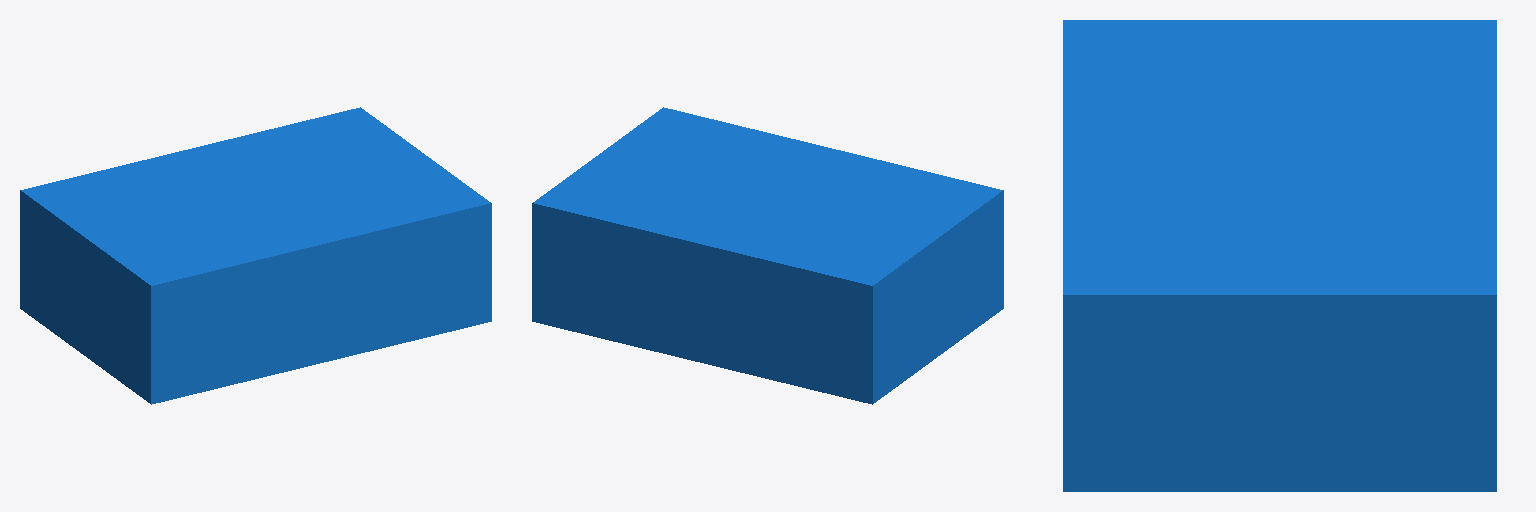
URDF robot description (link_inertial_box):
<?xml version="1.0"?>
<robot name="link_inertial_box">
    <link name="base_link">
        <!-- Visual：外观 -->
        <visual>
            <origin xyz="0 0 0.1"/>
            <geometry>
                <box size="0.6 0.4 0.2"/>
            </geometry>
            <material name="blue">
                <color rgba="0.15 0.55 0.90 0.5"/>
            </material>
        </visual>

        <!-- Collision：碰撞几何 -->
        <collision>
            <origin xyz="0 0 0.1"/>
            <geometry>
                <box size="0.6 0.4 0.2"/>
            </geometry>
        </collision>

        <!-- Inertial：惯性属性 -->
        <inertial>
            <origin xyz="0 0 0.1"/>
            <mass value="3.0"/>
            <inertia
                ixx="0.05"
                ixy="0.0"
                ixz="0.0"
                iyy="0.10"
                iyz="0.0"
                izz="0.13"/>
        </inertial>
    </link>
</robot>

--- What the picture shows (computed from the rendered views, not written in the file) ---
The picture shows the robot from 3 angles, left to right: view 1: azimuth 30°, elevation 25°; view 2: azimuth 150°, elevation 25°; view 3: azimuth 270°, elevation 25°; orthographic projection.
Model link_inertial_box with 1 links and 0 joints (none), rooted at base_link, posed all joints at 0.
Visible links, largest first — view 1: base_link; view 2: base_link; view 3: base_link.
Link boxes in pixels (box(x1,y1,x2,y2)): base_link: box(20, 107, 491, 404); base_link: box(532, 107, 1003, 404); base_link: box(1063, 20, 1496, 491).
Size in the robot's own frame: 0.6 by 0.4 by 0.2 metres.
Geometry: primitives only (box / cylinder / sphere), no mesh files.
